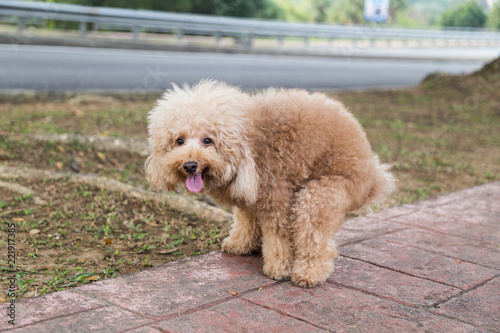dog_pooping: (141, 76, 402, 289)
